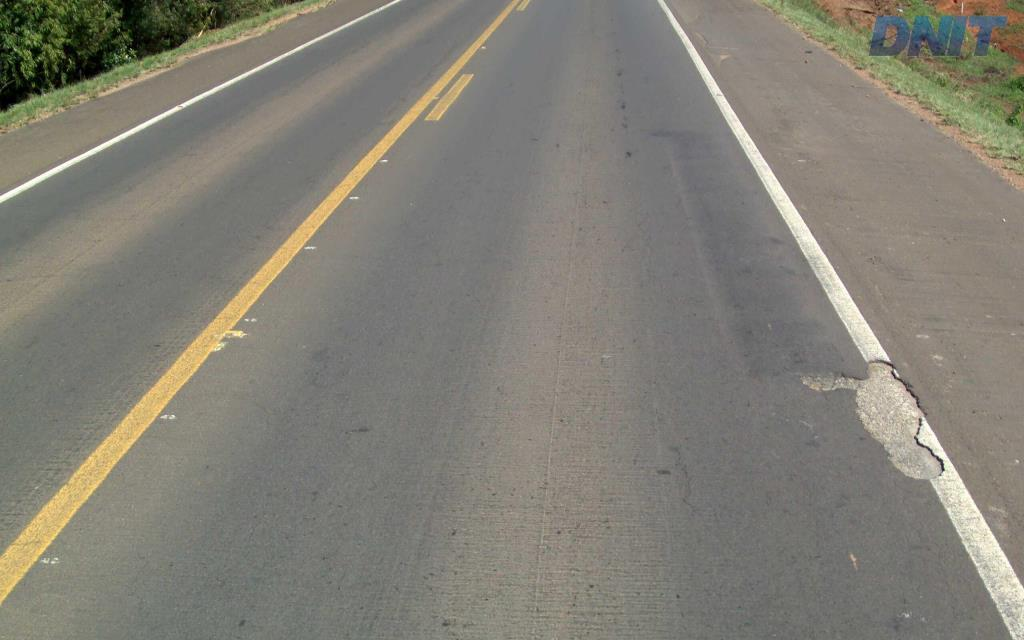pothole: (793, 353, 946, 493)
